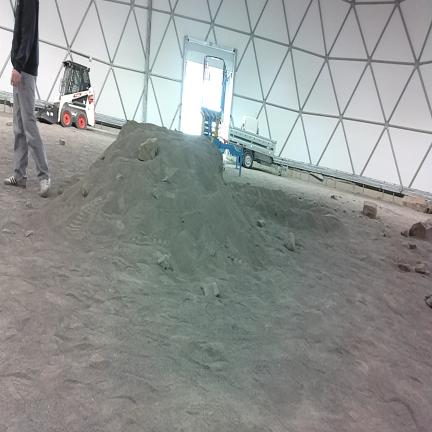Rock: (403, 196, 431, 212), (138, 138, 157, 161), (409, 222, 431, 239), (202, 282, 219, 296), (363, 201, 376, 218), (284, 233, 295, 250), (158, 255, 171, 269), (414, 262, 427, 274), (398, 262, 412, 272), (91, 353, 104, 362), (82, 183, 89, 197), (276, 209, 286, 218), (425, 295, 431, 307), (152, 188, 158, 199), (257, 219, 265, 227), (162, 176, 170, 183), (26, 200, 33, 208), (401, 230, 409, 237), (254, 237, 259, 247), (384, 230, 391, 237), (26, 230, 33, 237), (116, 173, 123, 180), (209, 249, 215, 257), (3, 229, 13, 233), (409, 244, 416, 249), (6, 121, 12, 126), (331, 195, 337, 200), (60, 140, 65, 145), (234, 258, 238, 263), (101, 155, 105, 159), (58, 190, 62, 194), (228, 253, 231, 258), (231, 257, 234, 261), (339, 195, 342, 199), (239, 260, 242, 264), (343, 210, 346, 213), (352, 210, 355, 213)
